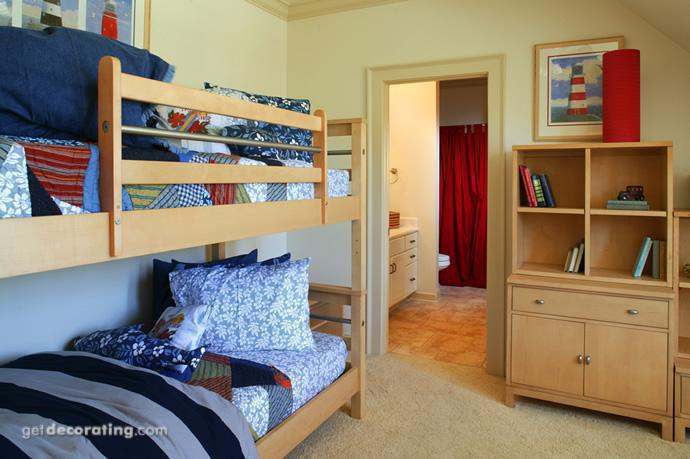Armario: (510, 141, 674, 438)
Cama: (2, 227, 361, 456), (0, 94, 358, 278)
